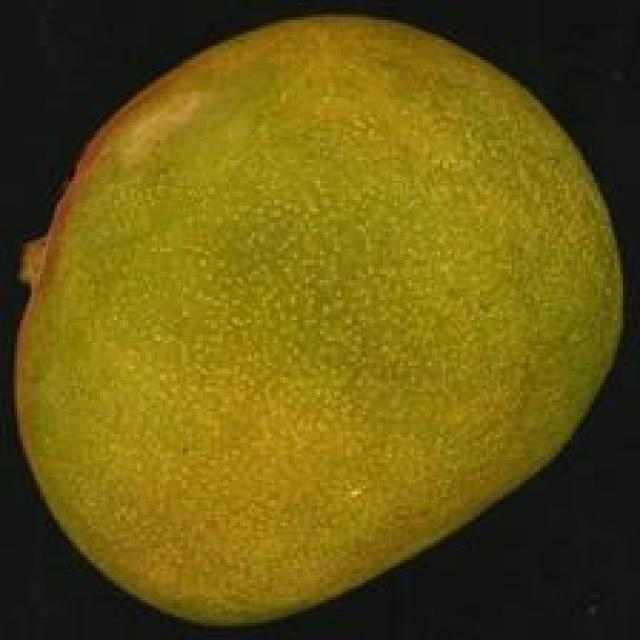Good_Mango: (9, 14, 629, 634)
